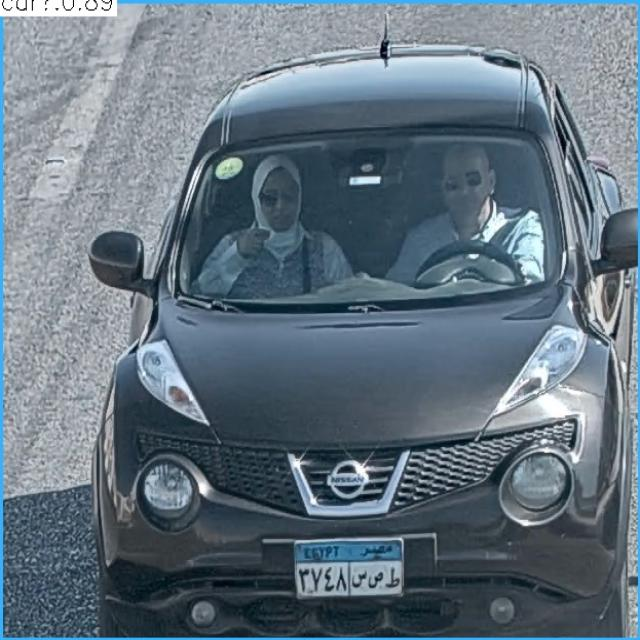windshield: (173, 133, 558, 302)
